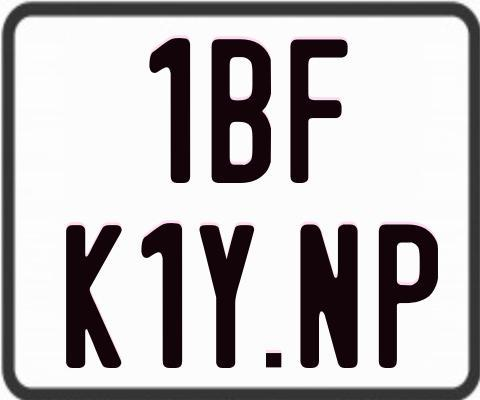1: (140, 223, 187, 373), (149, 36, 193, 181)
B: (211, 37, 276, 186)
F: (288, 38, 348, 186)
K: (63, 224, 125, 369)
N: (297, 221, 357, 371)
P: (376, 223, 436, 372)
Y: (200, 225, 259, 368)
